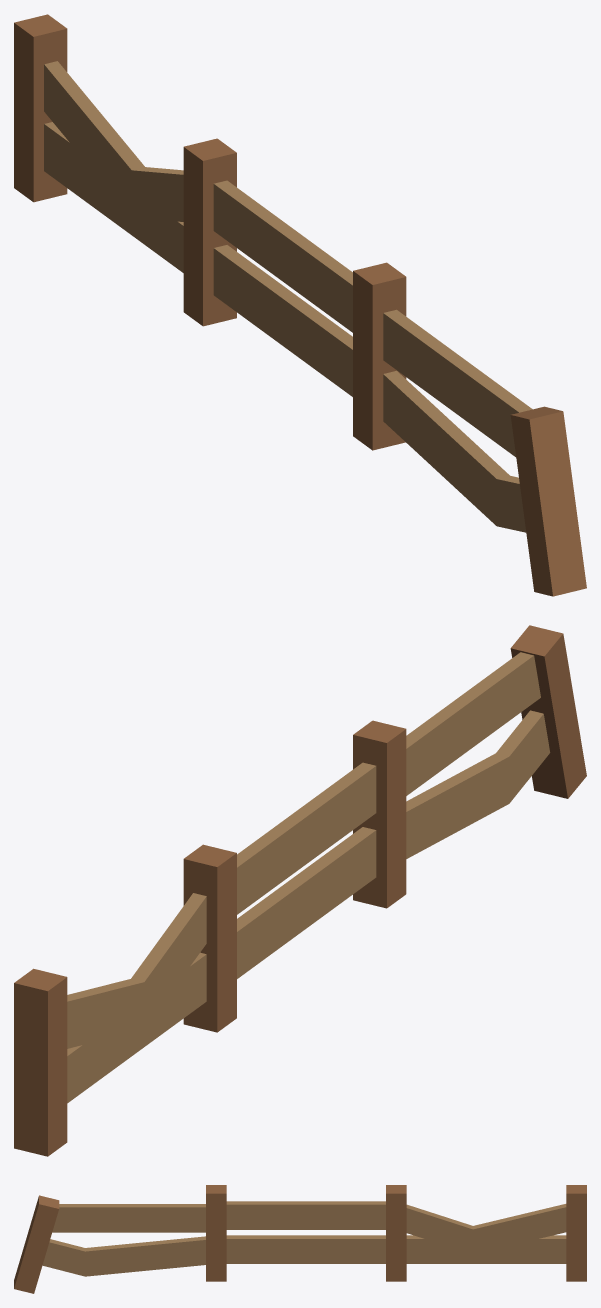
The model's file is desert fence 5.fbx.
3 renders of one model, top to bottom at view 1: azimuth 30°, elevation 25°; view 2: azimuth 150°, elevation 25°; view 3: azimuth 270°, elevation 25°, orthographic. The views are drawn at different scales.
Visible parts, largest first — view 1: polySurface116; view 2: polySurface116; view 3: polySurface116.
Part boxes in pixels (x1,y1,x2,y2): polySurface116: [14, 14, 586, 596]; polySurface116: [14, 625, 586, 1156]; polySurface116: [14, 1185, 586, 1293].
Bounding box in the file's own units: 0.75 × 3.99 × 20.67.
